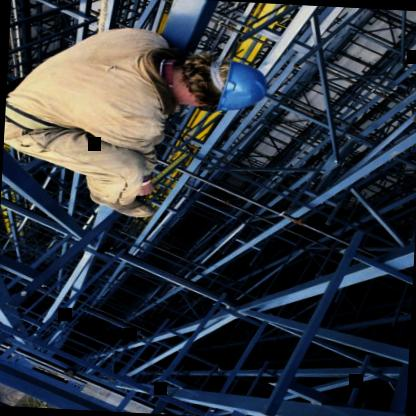helmet: (166, 55, 276, 116)
